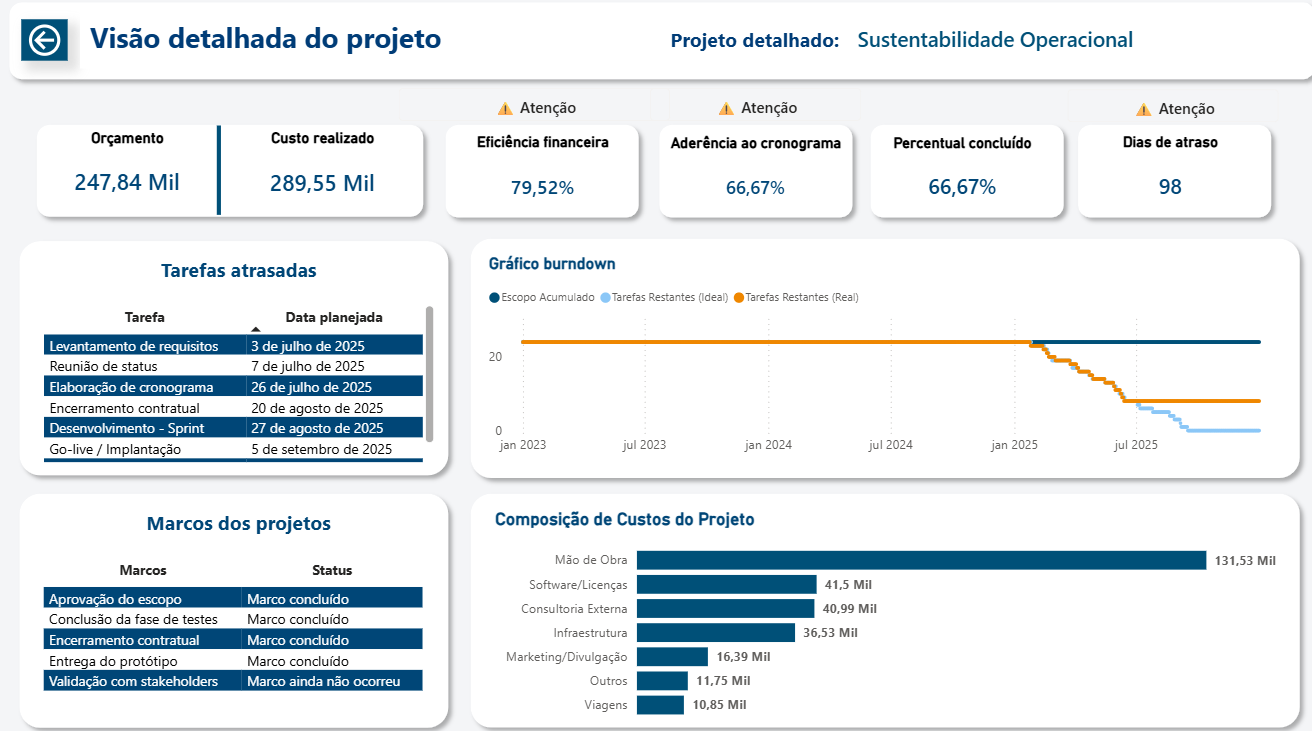

What the dashboard file says about the page in this screenshot:
{"tool":"powerbi","page":{"name":"Projeto detalhado","canvas":[1280,720],"ordinal":5},"visuals":[{"type":"shape","box":[0,0,1279.2,92.2],"z":0},{"type":"shape","box":[26,118.4,390.9,106.6],"z":0,"group":"g11"},{"type":"shape","box":[420,118.4,204.3,107.5],"z":0,"group":"g5"},{"type":"group","id":"g1","title":"Grupo 5","box":[627,118.4,204.3,107.5],"z":0,"group":"g8"},{"type":"shape","box":[627,118.4,204.3,107.5],"z":0,"group":"g1"},{"type":"shape","box":[831,118.4,204.3,107.5],"z":0,"group":"g6"},{"type":"group","id":"g2","title":"Grupo 5","box":[1030,118.4,204.3,107.5],"z":0,"group":"g9"},{"type":"shape","box":[1030,118.4,204.3,107.5],"z":0,"group":"g2"},{"type":"shape","box":[445.5,228.6,818.3,249.2],"z":0,"group":"g13"},{"type":"group","id":"g3","title":"Grupo 4","box":[9.1,229.9,432,244.1],"z":0,"group":"g12"},{"type":"shape","box":[9.1,229.9,432,244.1],"z":0,"group":"g3"},{"type":"group","id":"g4","title":"Grupo 4","box":[9.1,474,432,244.1],"z":0,"group":"g14"},{"type":"shape","box":[9.1,474,432,244.1],"z":0,"group":"g4"},{"type":"shape","box":[445.5,474,818.3,243.9],"z":0,"group":"g10"},{"type":"actionButton","box":[20.5,25.7,44.4,40.4],"z":1000},{"type":"cardVisual","fields":{"Data":["Medidas.Aviso_CPI"]},"box":[367.1,75,296.3,66.7],"z":1000,"group":"g9"},{"type":"cardVisual","fields":{"Data":["Medidas.Aviso_Aderencia_Cronograma"]},"box":[610,75.2,238.9,66.7],"z":1000,"group":"g8"},{"type":"cardVisual","title":"Custo realizado","fields":{"Data":["Sum(fato_financeiro_mensal.custo_realizado_rs)"]},"box":[210.6,132.2,200.8,82.3],"z":1000,"group":"g11"},{"type":"cardVisual","title":"Dias de atraso","fields":{"Data":["Medidas.Dias de Atraso"]},"box":[1044,135.3,167.5,83.2],"z":1000,"group":"g2"},{"type":"cardVisual","title":"Eficiência financeira","fields":{"Data":["Medidas.% CPI_Financeiro"]},"box":[442.5,135.7,160.2,83.4],"z":1000,"group":"g5"},{"type":"cardVisual","title":"Percentual concluído","fields":{"Data":["Medidas.% Conclusão do Projeto"]},"box":[835.1,136.3,188.3,80.5],"z":1000,"group":"g6"},{"type":"cardVisual","title":"Aderência ao cronograma","fields":{"Data":["Medidas.% SPI"]},"box":[640.3,136.4,178,82.6],"z":1000,"group":"g1"},{"type":"textbox","box":[64.4,249.3,330.6,39.2],"z":1000,"group":"g12"},{"type":"lineChart","title":"Gráfico burndown","fields":{"Y":["Medidas.Escopo Acumulado (Até a Data)","Medidas.Tarefas Restantes (Ideal)","Medidas.Tarefas Restantes (Real)"],"Category":["dim_calendario.data"]},"box":[467,252.9,774.6,201.7],"z":1000,"group":"g13"},{"type":"pivotTable","fields":{"Rows":["fato_tarefas.nome_tarefa"],"Values":["Min(fato_tarefas.data_fim_planejada)"]},"box":[36.7,296.7,386.5,160.7],"z":1000,"group":"g3"},{"type":"textbox","box":[64.4,493.4,330.6,39.2],"z":1000,"group":"g14"},{"type":"barChart","title":"Composição de Custos do Projeto","fields":{"Category":["fato_financeiro_mensal.categoria_custo","fato_financeiro_mensal.tipo_lancamento"],"Y":["Sum(fato_financeiro_mensal.custo_realizado_rs)"]},"box":[473.7,496.9,763.9,214.2],"z":1000,"group":"g10"},{"type":"pivotTable","fields":{"Rows":["fato_marcos.nome_marco"],"Values":["Min(fato_marcos.Status real marco)"]},"box":[36.7,540.8,386.5,160.7],"z":1000,"group":"g4"},{"type":"shape","box":[138.5,128.4,145,86.2],"z":2000,"group":"g11"},{"type":"cardVisual","fields":{"Data":["Medidas.Aviso_Atraso"]},"box":[1013,75.9,238.9,66.7],"z":3000},{"type":"group","id":"g5","title":"Grupo 5","box":[420,118.4,201.7,107.9],"z":3000,"group":"g7"},{"type":"cardVisual","title":"Orçamento","fields":{"Data":["Sum(fato_financeiro_mensal.custo_planejado_rs)"]},"box":[33.5,132.2,178.8,81.2],"z":3000,"group":"g11"},{"type":"textbox","box":[76.6,19.5,358.4,53.2],"z":4000},{"type":"group","id":"g6","title":"Grupo 5","box":[831,118.4,204.3,107.5],"z":4000,"group":"g7"},{"type":"group","id":"g7","title":"Grupo 1","box":[26,75,1208.3,151.3],"z":5000},{"type":"group","id":"g8","title":"Grupo 6","box":[610,75.2,238.9,150.7],"z":5000,"group":"g7"},{"type":"group","id":"g9","title":"Grupo 10","box":[367.1,75,867.3,150.9],"z":6000,"group":"g7"},{"type":"group","id":"g10","title":"Grupo 11","box":[445.5,474,818.2,245.5],"z":6000},{"type":"group","id":"g11","title":"Grupo 5","box":[26,118.4,390.9,106.5],"z":6502,"group":"g7"},{"type":"group","id":"g12","title":"Grupo 13","box":[9.1,229.9,432.5,244.2],"z":7000},{"type":"group","id":"g13","title":"Grupo 3","box":[445.5,228.6,818.2,249.4],"z":8000},{"type":"group","id":"g14","title":"Grupo 13","box":[9.1,474,432.5,244.2],"z":9000},{"type":"cardVisual","fields":{"Data":["Min(dim_projeto.Nome do projeto)"]},"box":[798.7,11.7,439,61],"z":11000,"group":"g15"},{"type":"textbox","box":[636.4,27.3,185.7,37.7],"z":11500,"group":"g15"},{"type":"group","id":"g15","title":"Grupo 2","box":[636.4,11.7,601.3,61],"z":11501}]}

Visuals, with their boxes in screenshot pixels (x1, y1, x2, y2), scaled from the page's 1280x720 canvas onto the 1312x731 screenshot:
shape: pyautogui.locateOnScreen(0, 0, 1311, 94)
shape: pyautogui.locateOnScreen(27, 120, 427, 228)
shape: pyautogui.locateOnScreen(430, 120, 640, 229)
"Grupo 5" group: pyautogui.locateOnScreen(643, 120, 852, 229)
shape: pyautogui.locateOnScreen(643, 120, 852, 229)
shape: pyautogui.locateOnScreen(852, 120, 1061, 229)
"Grupo 5" group: pyautogui.locateOnScreen(1056, 120, 1265, 229)
shape: pyautogui.locateOnScreen(1056, 120, 1265, 229)
shape: pyautogui.locateOnScreen(457, 232, 1295, 485)
"Grupo 4" group: pyautogui.locateOnScreen(9, 233, 452, 481)
shape: pyautogui.locateOnScreen(9, 233, 452, 481)
"Grupo 4" group: pyautogui.locateOnScreen(9, 481, 452, 729)
shape: pyautogui.locateOnScreen(9, 481, 452, 729)
shape: pyautogui.locateOnScreen(457, 481, 1295, 729)
actionButton: pyautogui.locateOnScreen(21, 26, 67, 67)
cardVisual - Medidas.Aviso_CPI: pyautogui.locateOnScreen(376, 76, 680, 144)
cardVisual - Medidas.Aviso_Aderencia_Cronograma: pyautogui.locateOnScreen(625, 76, 870, 144)
"Custo realizado" cardVisual: pyautogui.locateOnScreen(216, 134, 422, 218)
"Dias de atraso" cardVisual: pyautogui.locateOnScreen(1070, 137, 1242, 222)
"Eficiência financeira" cardVisual: pyautogui.locateOnScreen(454, 138, 618, 222)
"Percentual concluído" cardVisual: pyautogui.locateOnScreen(856, 138, 1049, 220)
"Aderência ao cronograma" cardVisual: pyautogui.locateOnScreen(656, 138, 839, 222)
textbox: pyautogui.locateOnScreen(66, 253, 405, 293)
"Gráfico burndown" lineChart: pyautogui.locateOnScreen(479, 257, 1273, 462)
pivotTable - fato_tarefas.nome_tarefa x Min(fato_tarefas.data_fim_planejada): pyautogui.locateOnScreen(38, 301, 434, 464)
textbox: pyautogui.locateOnScreen(66, 501, 405, 541)
"Composição de Custos do Projeto" barChart: pyautogui.locateOnScreen(486, 504, 1269, 722)
pivotTable - fato_marcos.nome_marco x Min(fato_marcos.Status real marco): pyautogui.locateOnScreen(38, 549, 434, 712)
shape: pyautogui.locateOnScreen(142, 130, 291, 218)
cardVisual - Medidas.Aviso_Atraso: pyautogui.locateOnScreen(1038, 77, 1283, 145)
"Grupo 5" group: pyautogui.locateOnScreen(430, 120, 637, 230)
"Orçamento" cardVisual: pyautogui.locateOnScreen(34, 134, 218, 217)
textbox: pyautogui.locateOnScreen(79, 20, 446, 74)
"Grupo 5" group: pyautogui.locateOnScreen(852, 120, 1061, 229)
"Grupo 1" group: pyautogui.locateOnScreen(27, 76, 1265, 230)
"Grupo 6" group: pyautogui.locateOnScreen(625, 76, 870, 229)
"Grupo 10" group: pyautogui.locateOnScreen(376, 76, 1265, 229)
"Grupo 11" group: pyautogui.locateOnScreen(457, 481, 1295, 730)
"Grupo 5" group: pyautogui.locateOnScreen(27, 120, 427, 228)
"Grupo 13" group: pyautogui.locateOnScreen(9, 233, 453, 481)
"Grupo 3" group: pyautogui.locateOnScreen(457, 232, 1295, 485)
"Grupo 13" group: pyautogui.locateOnScreen(9, 481, 453, 729)
cardVisual - Min(dim_projeto.Nome do projeto): pyautogui.locateOnScreen(819, 12, 1269, 74)
textbox: pyautogui.locateOnScreen(652, 28, 843, 66)
"Grupo 2" group: pyautogui.locateOnScreen(652, 12, 1269, 74)
